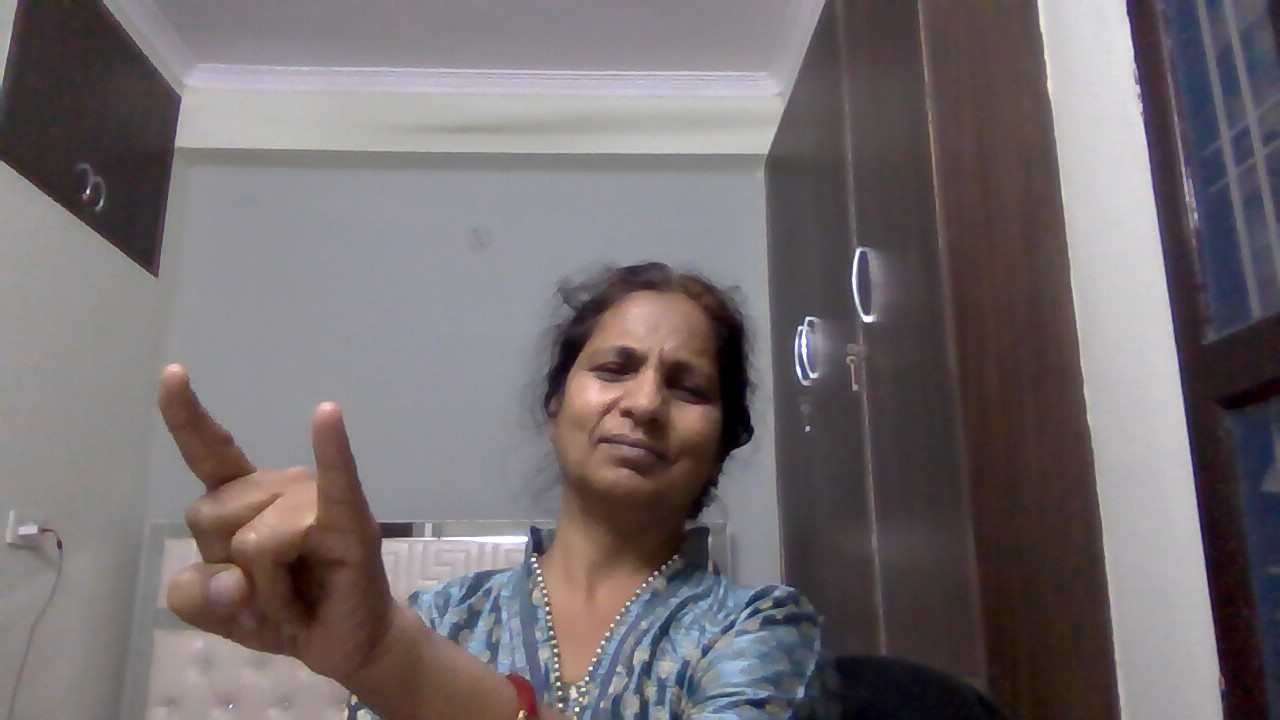Select All: (145, 352, 400, 680)
